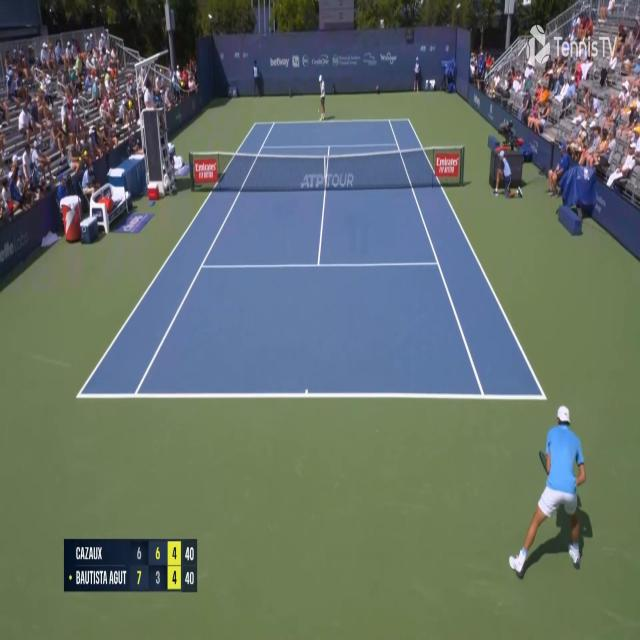tennis-player: (508, 400, 590, 584), (317, 72, 327, 121)
